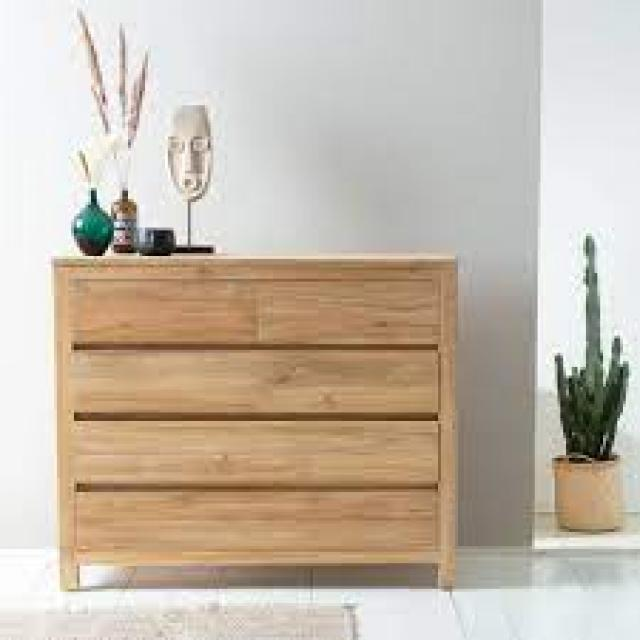mobile-phone: (49, 0, 460, 591)
